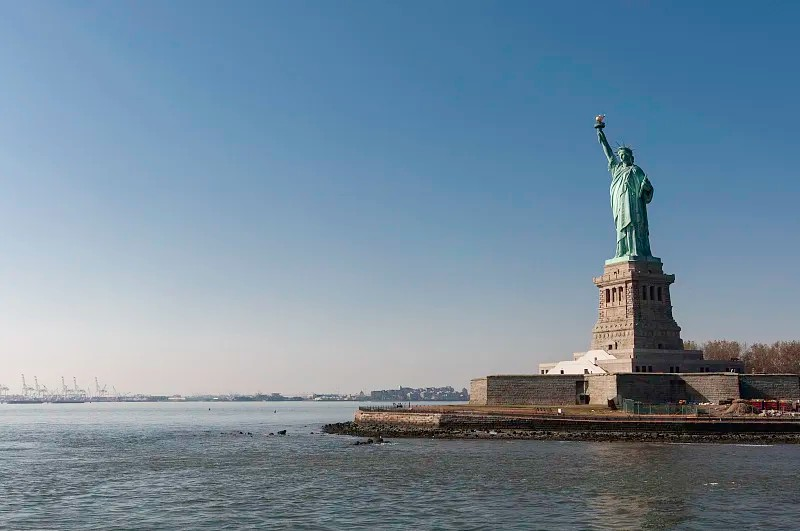SL: (590, 114, 683, 350)
